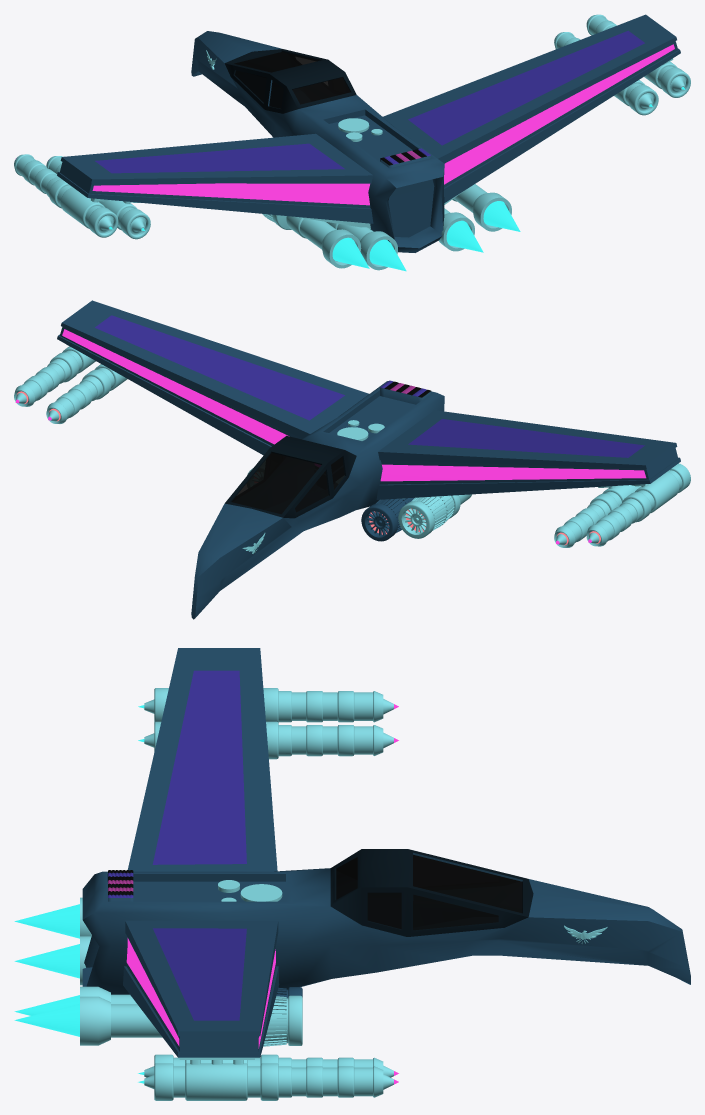
The model's file is Spaceship_Model.fbx.
3 renders of one model, top to bottom at view 1: azimuth 30°, elevation 25°; view 2: azimuth 150°, elevation 25°; view 3: azimuth 270°, elevation 25°, orthographic. The views are drawn at different scales.
Visible parts, largest first — view 1: Symmetry_1; view 2: Symmetry_1; view 3: Symmetry_1.
Boxes of the visible parts, box(x1,y1,x2,y2) form: Symmetry_1: box(14, 14, 690, 271); Symmetry_1: box(14, 300, 690, 619); Symmetry_1: box(14, 648, 690, 1100).
Size of the model in its own units: 1018 by 207 by 744.
